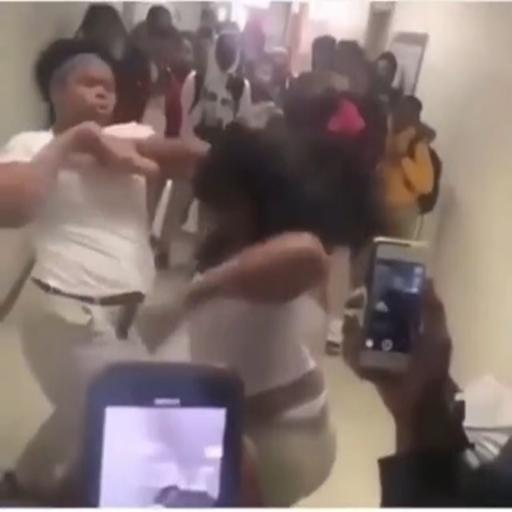violencia: (1, 30, 367, 512)
